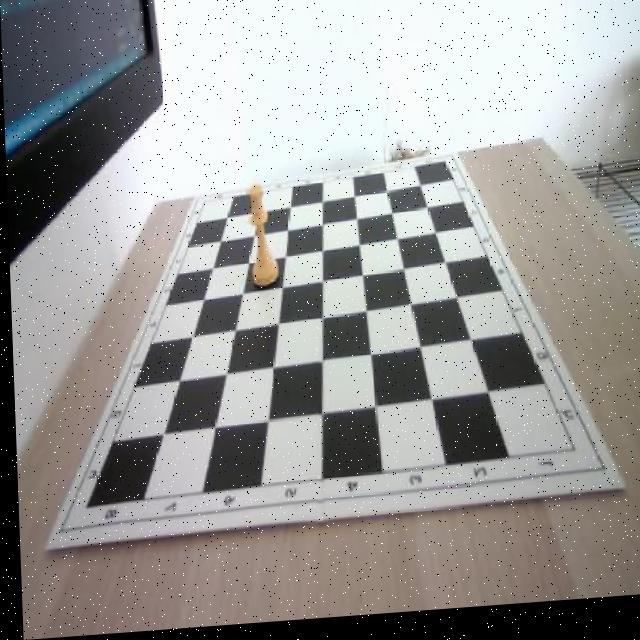white-pawn: (247, 186, 278, 290)
